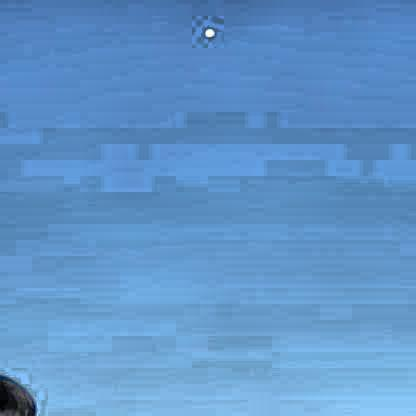golfball: (200, 25, 214, 37)
